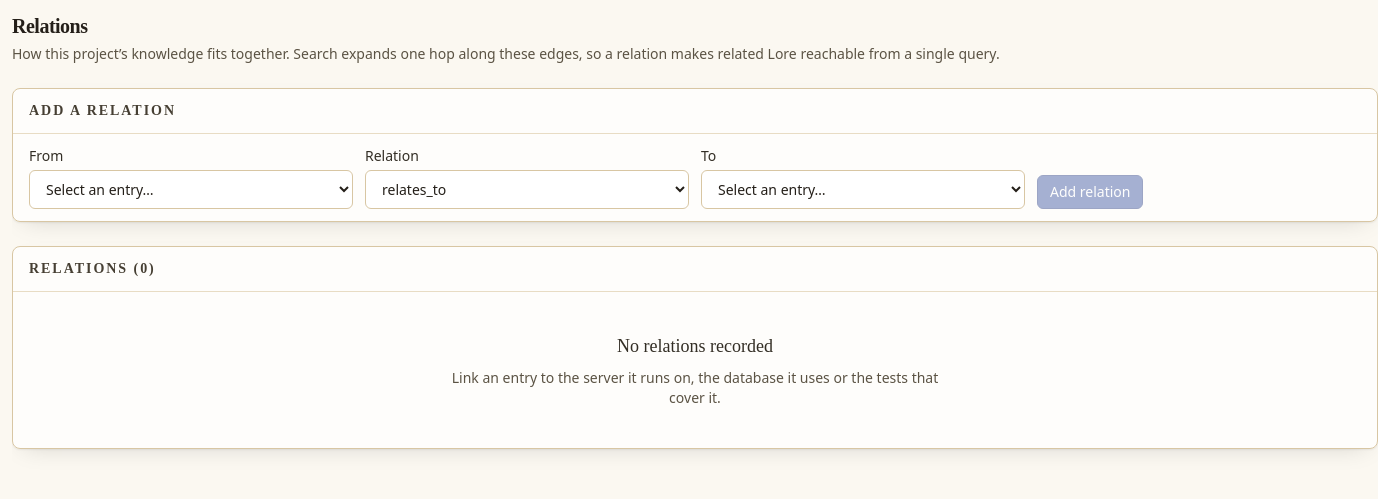
Test: the Relations tab › refuses a self-link before it reaches the API
Select "server.api" in the dropdown labelled "From" at (191, 190), box [29,170,353,209]
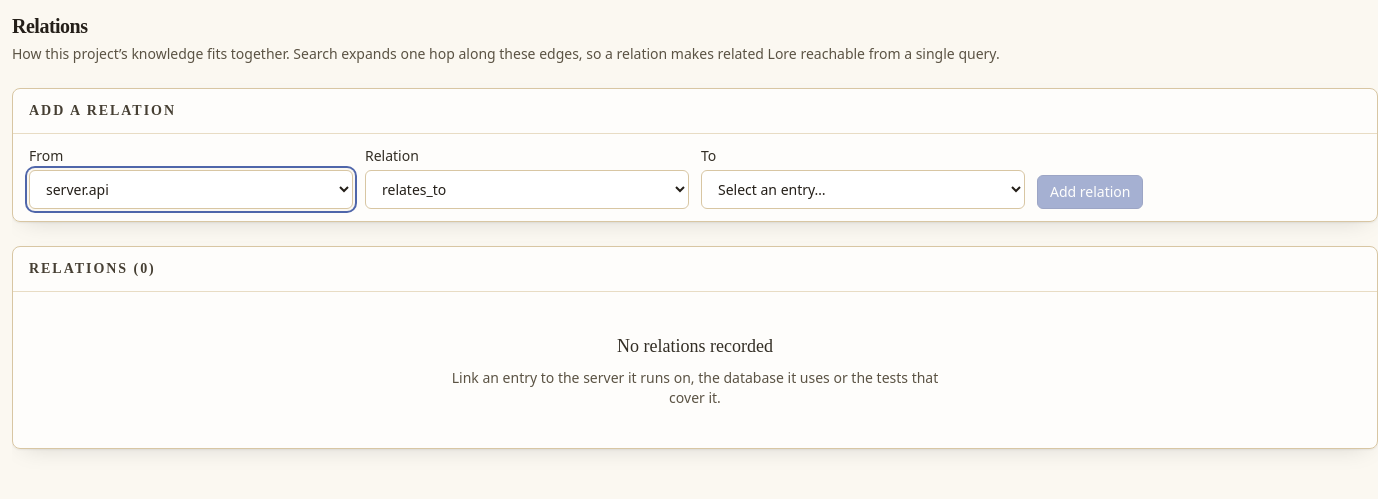
Select "server.api" in the dropdown labelled "To" at (863, 190), box [701,170,1025,209]
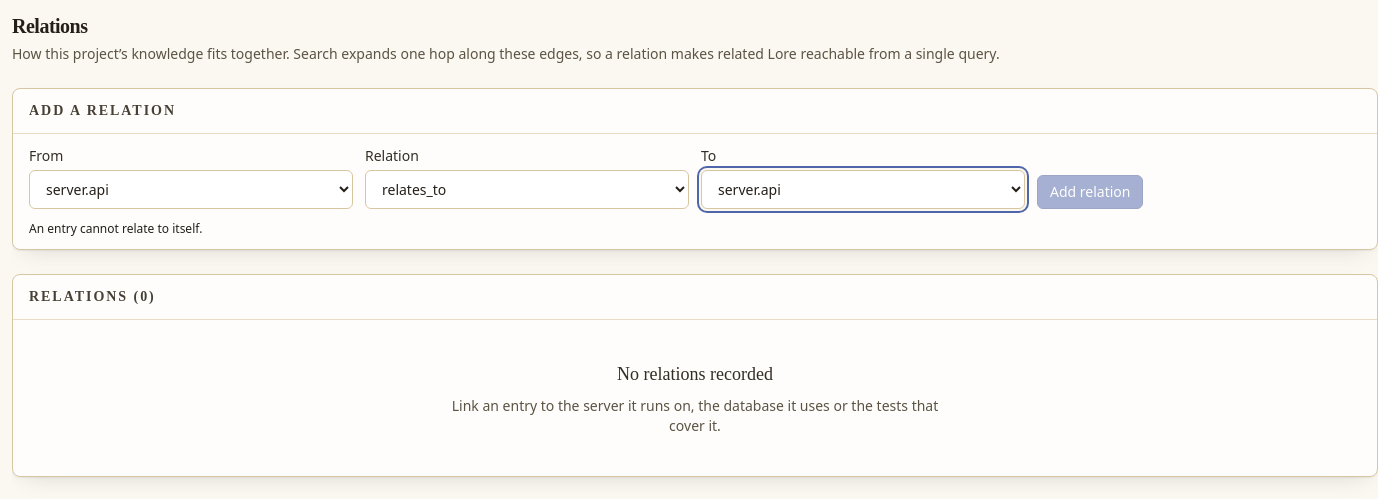
Expected: the button "Add relation" is disabled, [1037,175,1144,209]
Expected: the text "An entry cannot relate to itself." is shown, [29,220,202,237]
